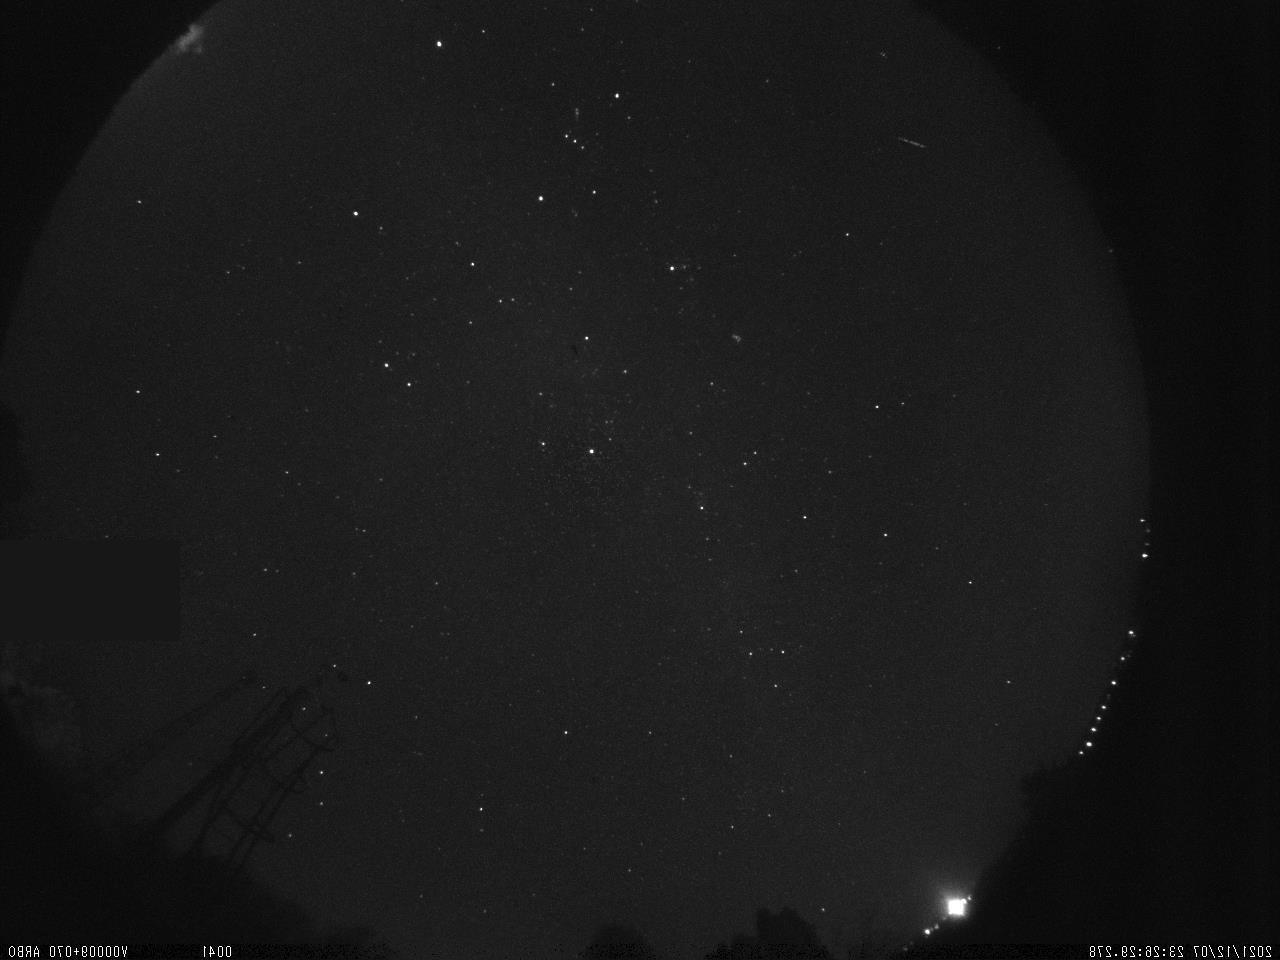meteor: (879, 124, 944, 169)
